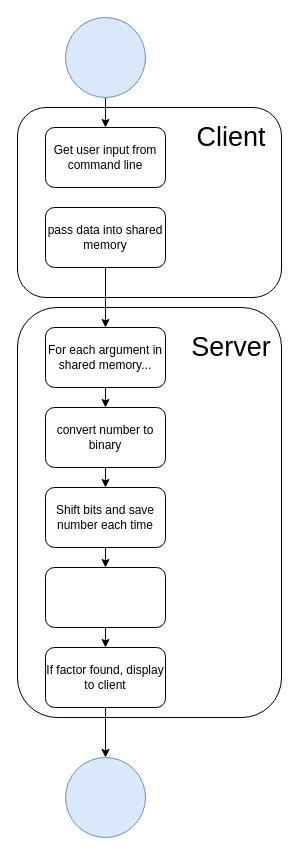
Image size: 299x855. Some labels were removed from this diagram. The centre of each missing label's shape, as x and y in pixels:
"Assign each number to thread and calculate factors" goes at point (105, 597).
"end" goes at point (105, 797).
"Start" goes at point (105, 57).
